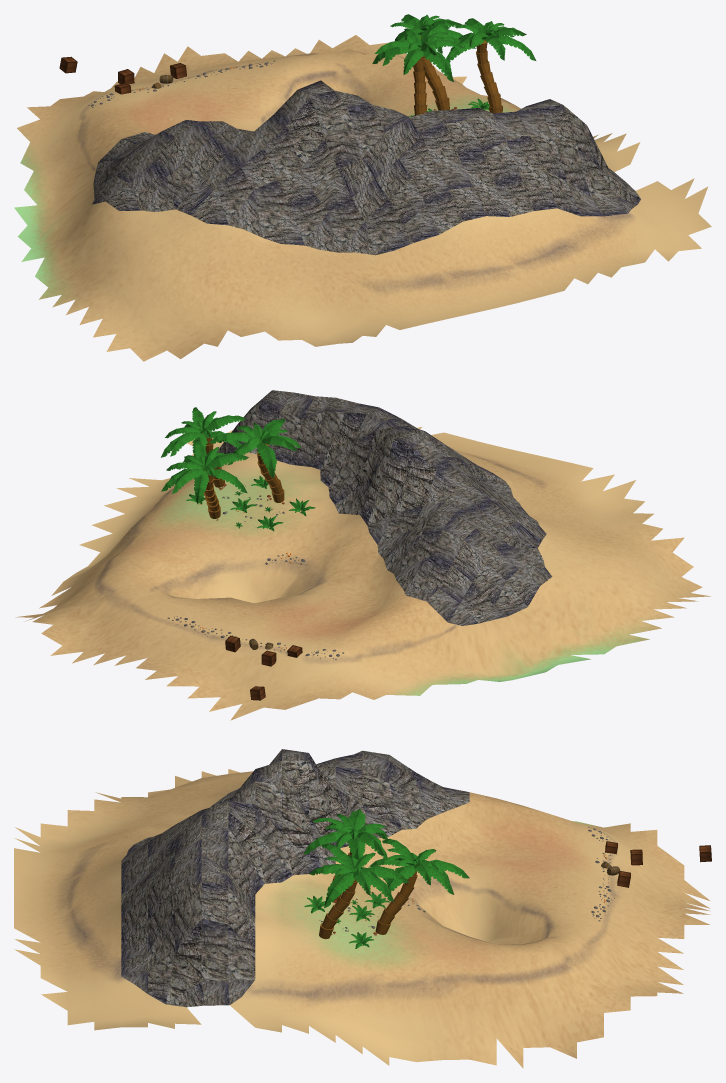
The model's file is ile_2.glb.
3 renders of one model, top to bottom at view 1: azimuth 30°, elevation 25°; view 2: azimuth 150°, elevation 25°; view 3: azimuth 270°, elevation 25°, orthographic. The views are drawn at different scales.
Visible parts, largest first — view 1: Terrain, Rochers, palma tronco.007_Material.019_0, palma tronco.008_Material.019_0, palma tronco.002_Material.019_0; view 2: Terrain, Rochers; view 3: Terrain, Rochers, palma tronco.008_Material.019_0, palma tronco.007_Material.019_0, Foglia.263_palmafoglia.001_0.
Boxes of the visible parts, bbox=[...] form: Terrain: bbox=[14, 35, 711, 361]; Rochers: bbox=[92, 80, 640, 255]; palma tronco.007_Material.019_0: bbox=[476, 40, 502, 113]; palma tronco.008_Material.019_0: bbox=[420, 35, 449, 110]; palma tronco.002_Material.019_0: bbox=[413, 57, 427, 115]; Terrain: bbox=[15, 426, 710, 720]; Rochers: bbox=[215, 390, 552, 625]; Terrain: bbox=[14, 769, 710, 1068]; Rochers: bbox=[121, 749, 469, 1007]; palma tronco.008_Material.019_0: bbox=[375, 871, 417, 934]; palma tronco.007_Material.019_0: bbox=[319, 879, 357, 939]; Foglia.263_palmafoglia.001_0: bbox=[324, 872, 355, 908].
Size of the model in its own units: 21.4 by 6.08 by 22.29.
Materials: 10 (10 with a texture image).
